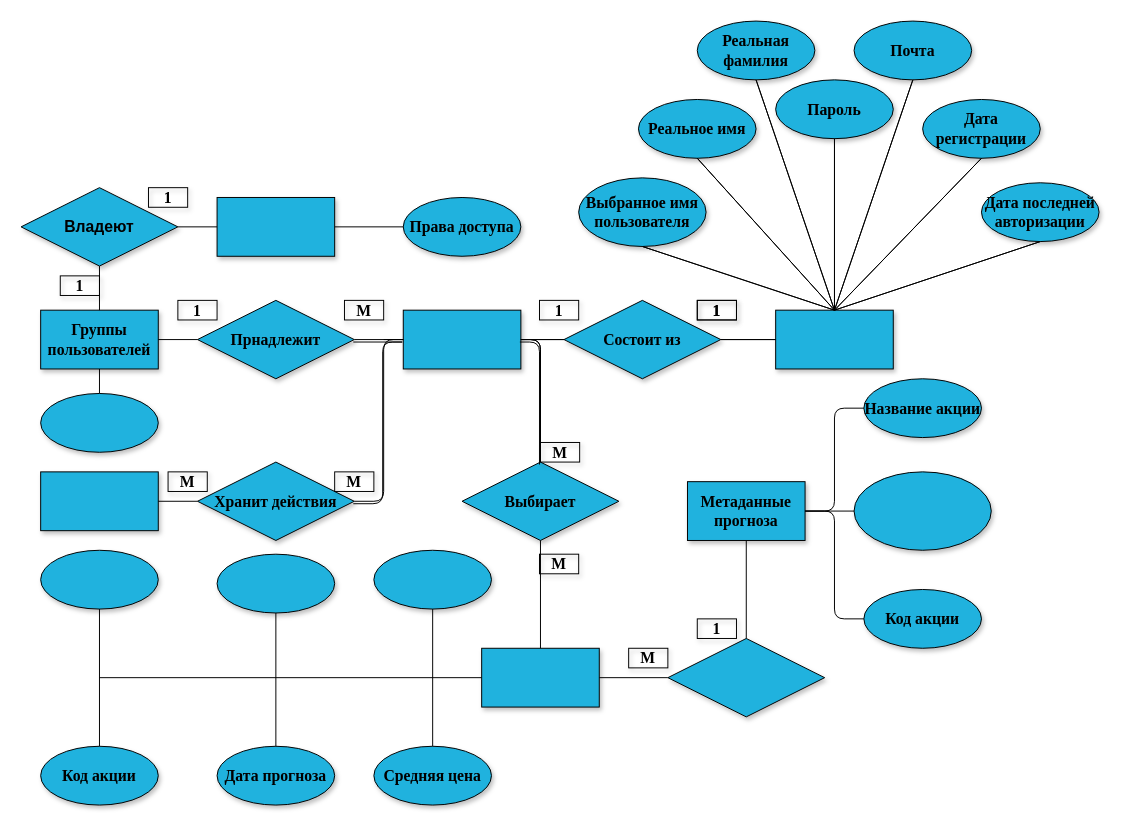
Some shapes in this 1122 by 829 pixel diagram are drawn without their labels. The centre of each missing label's shape, as x and y in pixels:
"Дата обновления" belongs at pixel 433 580.
"Журнал аудита" belongs at pixel 100 502.
"Максимальная цена" belongs at pixel 100 580.
"Метаданные пользователя" belongs at pixel 835 340.
"Минимальная цена" belongs at pixel 276 584.
"Название" belongs at pixel 100 424.
"Пользователь" belongs at pixel 462 340.
"Права групп пользователей" belongs at pixel 276 228.
"Прогноз" belongs at pixel 541 678.
"Содержит" belongs at pixel 747 679.
"Ссылка на подробное описание акции" belongs at pixel 923 512.
